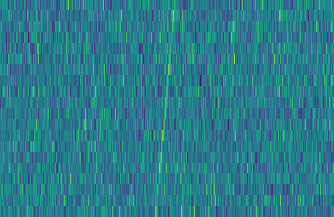signal: (150, 0, 179, 217)
